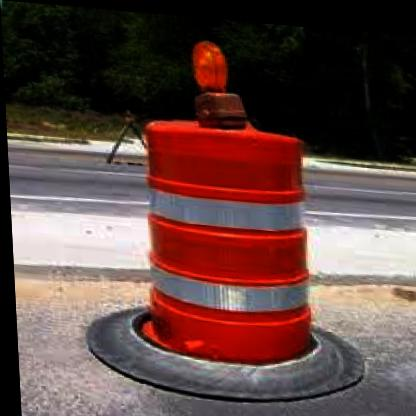obstacle: (111, 110, 323, 369)
